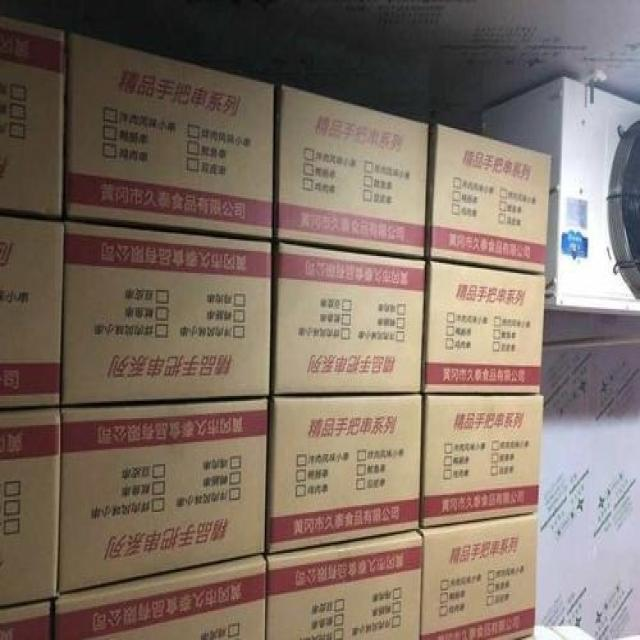box: (66, 36, 274, 240), (56, 400, 266, 596), (62, 219, 271, 406), (276, 85, 427, 258), (267, 397, 423, 556), (273, 243, 426, 397), (427, 125, 552, 272), (52, 556, 267, 638), (422, 259, 546, 394), (266, 530, 420, 638), (421, 396, 544, 531), (419, 514, 538, 638), (0, 17, 66, 218), (0, 405, 62, 608), (0, 217, 64, 410), (0, 598, 53, 638)
